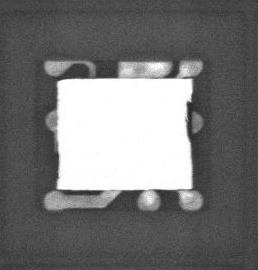DIE_BROKEN: (183, 98, 192, 144)
